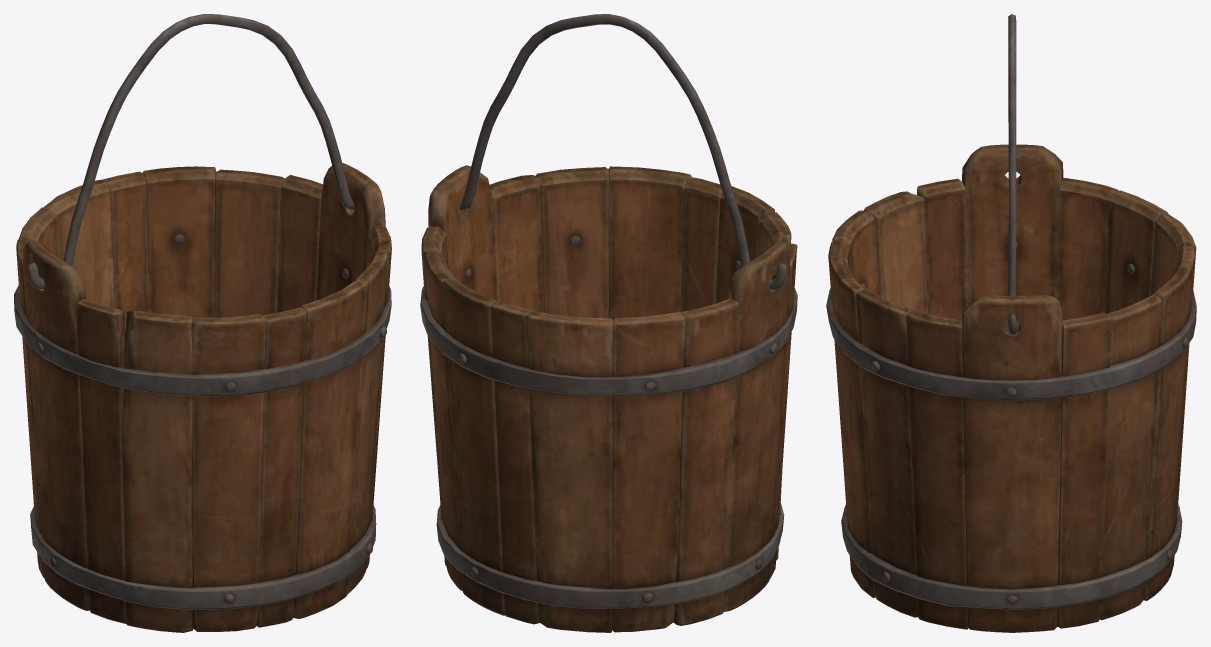
File: wooden_bucket_01.glb
3 renders of one model, left to right at view 1: azimuth 30°, elevation 25°; view 2: azimuth 150°, elevation 25°; view 3: azimuth 270°, elevation 25°, orthographic.
Visible parts, largest first — view 1: wooden_bucket_01; view 2: wooden_bucket_01; view 3: wooden_bucket_01.
Boxes of the visible parts, x1,y1,x2,y2 form: wooden_bucket_01: (14, 14, 391, 632); wooden_bucket_01: (420, 14, 797, 632); wooden_bucket_01: (826, 14, 1196, 632).
Size of the model in its own units: 0.367 by 0.5499 by 0.3422.
Materials: 1 (1 with a texture image).
